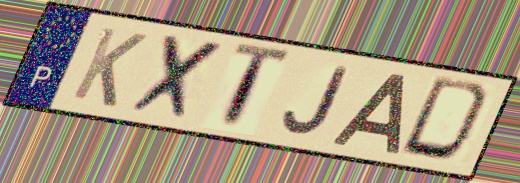A: (326, 71, 409, 157)
D: (395, 74, 498, 168)
J: (280, 64, 352, 138)
K: (67, 23, 151, 111)
T: (220, 40, 295, 136)
X: (126, 32, 229, 125)
